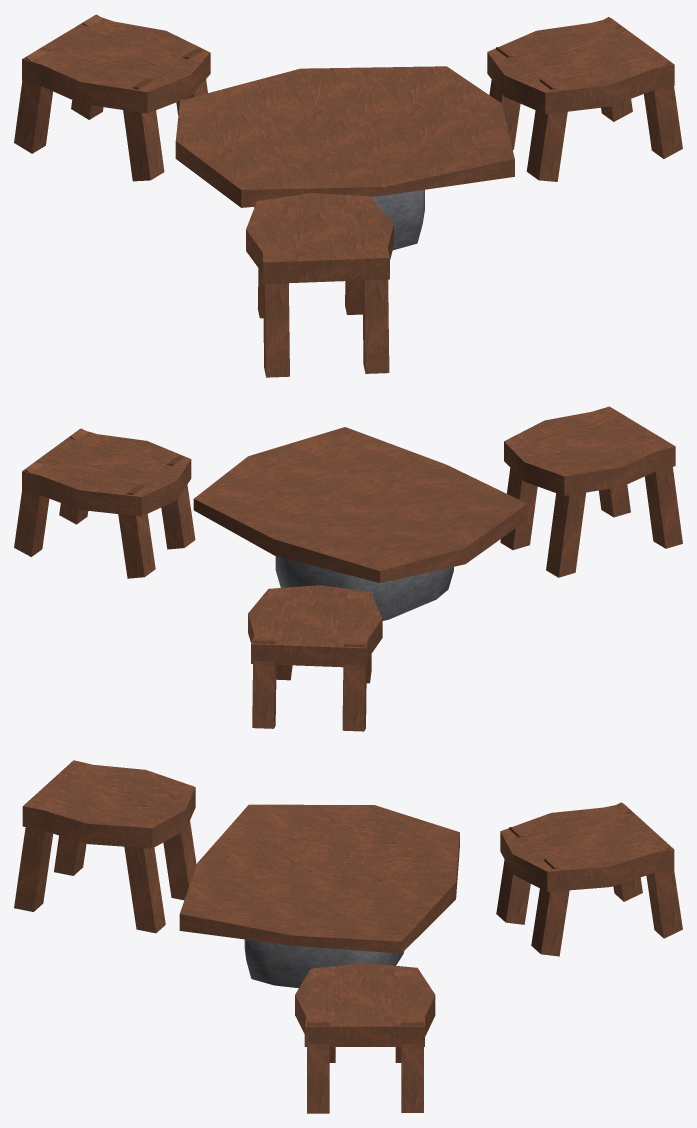
File: masa_sandalye.FBX
3 renders of one model, top to bottom at view 1: azimuth 30°, elevation 25°; view 2: azimuth 150°, elevation 25°; view 3: azimuth 270°, elevation 25°, orthographic. The views are drawn at different scales.
Visible parts, largest first — view 1: Box019, Box007, Box013, Box001, Box005, Box003, Box010, Box018, Box009, Box017, Box020, Box016 (+2 smaller); view 2: Box019, Box001, Box013, Box007, Box020, Box004, Box003, Box016, Box015, Box011, Box009, Box018 (+3 smaller); view 3: Box019, Box001, Box007, Box013, Box020, Box006, Box005, Box012, Box011, Box017, Box004, Box015 (+3 smaller).
Boxes of the visible parts, <box> form: Box019: <box>175,66,514,207</box>; Box007: <box>22,17,210,113</box>; Box013: <box>487,18,674,114</box>; Box001: <box>246,193,393,283</box>; Box005: <box>362,279,389,373</box>; Box003: <box>263,282,289,377</box>; Box010: <box>123,79,164,181</box>; Box018: <box>526,79,567,181</box>; Box009: <box>14,49,52,153</box>; Box017: <box>644,53,682,158</box>; Box020: <box>254,189,424,250</box>; Box016: <box>489,47,520,149</box>; Box019: <box>193,427,527,582</box>; Box001: <box>504,406,675,495</box>; Box013: <box>22,429,191,516</box>; Box007: <box>248,585,382,667</box>; Box020: <box>275,556,453,620</box>; Box004: <box>546,492,585,577</box>; Box003: <box>645,467,682,548</box>; Box016: <box>118,485,155,578</box>; Box015: <box>14,461,49,556</box>; Box011: <box>252,639,276,728</box>; Box009: <box>342,643,366,731</box>; Box018: <box>161,456,195,549</box>; Box019: <box>179,804,459,953</box>; Box001: <box>22,760,195,848</box>; Box007: <box>500,803,674,891</box>; Box013: <box>295,962,435,1046</box>; Box020: <box>244,939,404,988</box>; Box006: <box>124,846,165,933</box>; Box005: <box>14,827,53,911</box>; Box012: <box>531,858,569,956</box>; Box011: <box>646,838,682,938</box>; Box017: <box>307,1022,329,1113</box>; Box004: <box>163,821,196,900</box>; Box015: <box>401,1022,423,1112</box>.
Bounding box in the file's own units: 106 × 21.32 × 119.
